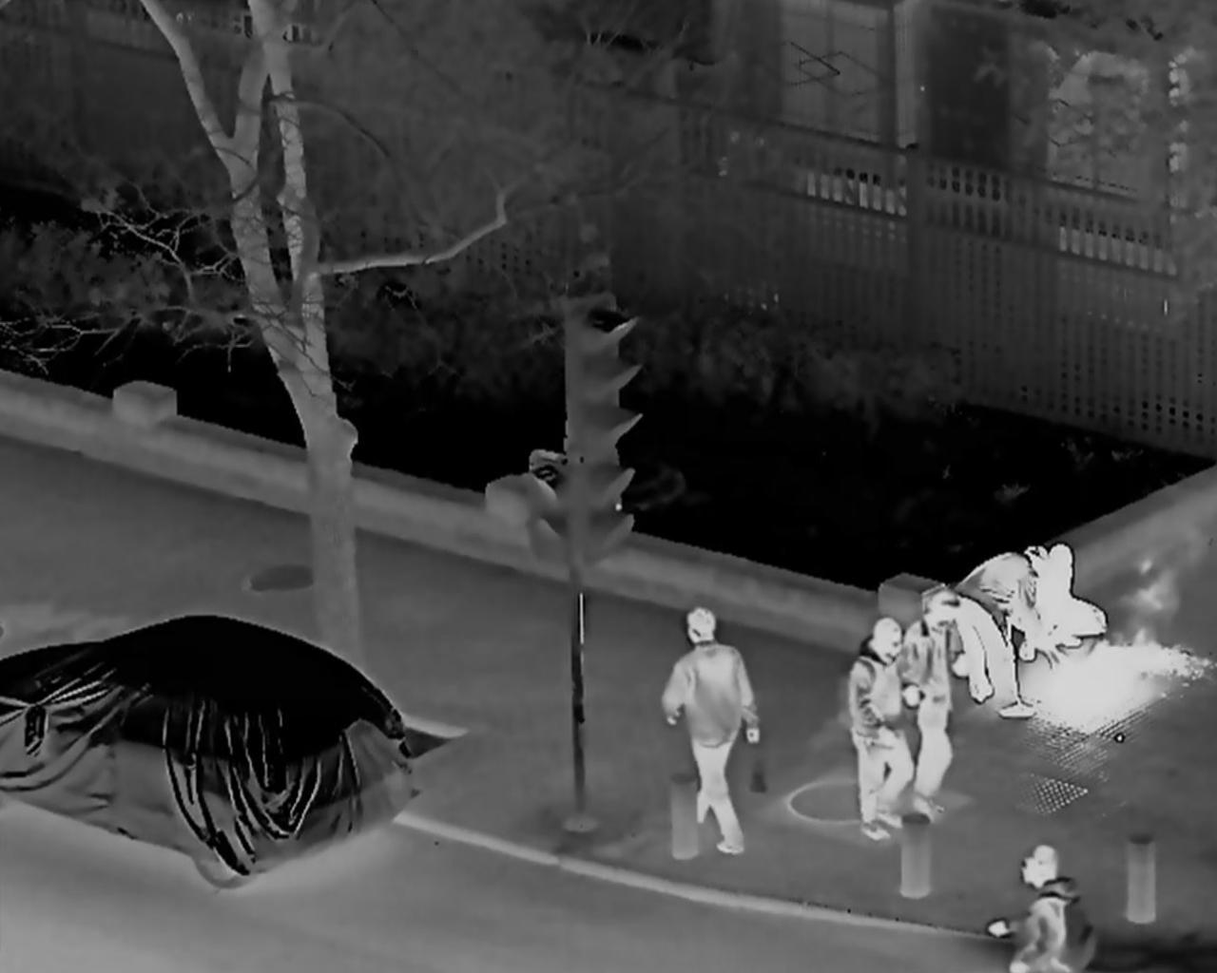person: (655, 609, 763, 858), (950, 540, 1054, 728), (845, 617, 907, 840), (901, 595, 963, 817), (991, 846, 1097, 973), (1015, 544, 1114, 660)
